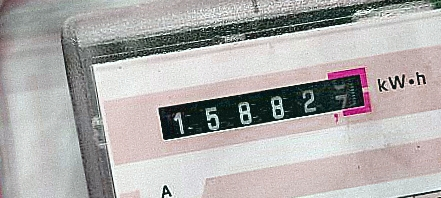1: (169, 107, 187, 137)
2: (298, 85, 319, 116)
5: (201, 102, 223, 132)
7: (332, 90, 350, 110)
8: (234, 98, 254, 128), (267, 92, 286, 122)
screen: (141, 57, 383, 155)
